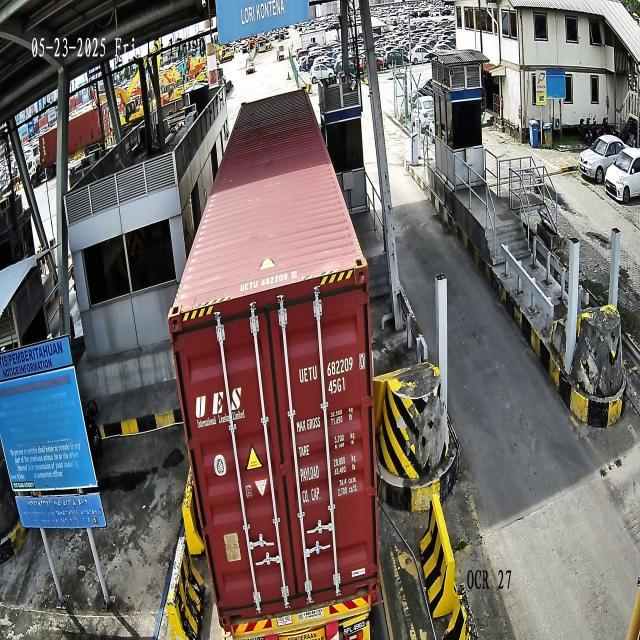ISO: (328, 376, 346, 396)
container_number: (298, 352, 366, 383)
